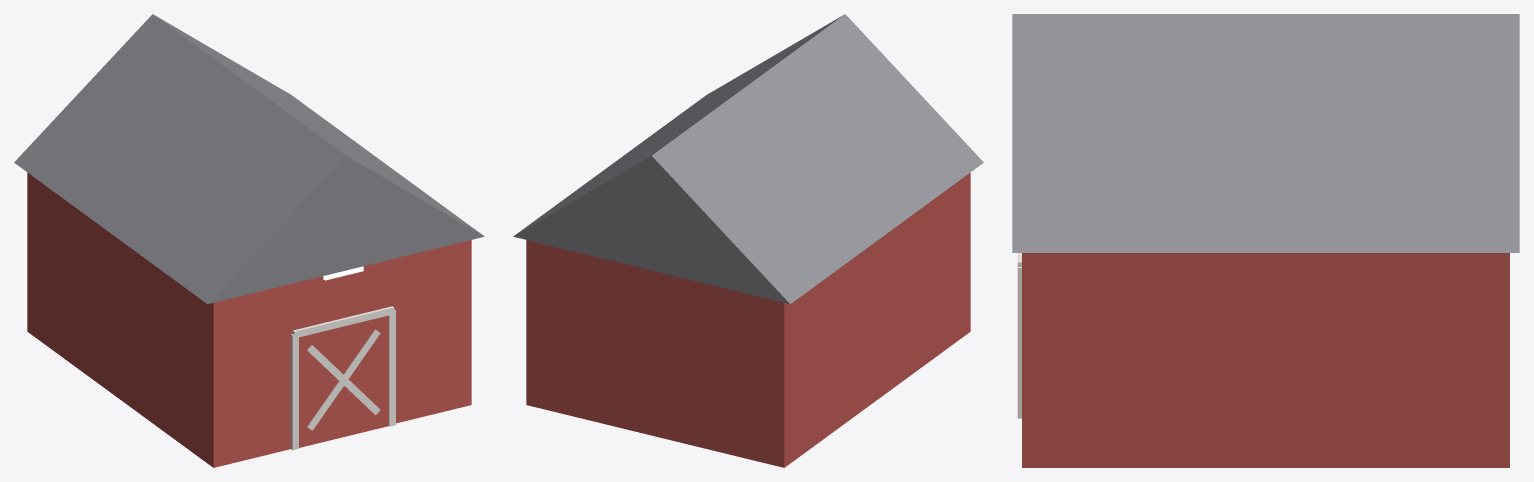
Rendered from barn.glb.
3 renders of one model, left to right at view 1: azimuth 30°, elevation 25°; view 2: azimuth 150°, elevation 25°; view 3: azimuth 270°, elevation 25°, orthographic. The views are drawn at different scales.
Visible parts, largest first — view 1: barn; view 2: barn; view 3: barn.
Part boxes in pixels (left/top/right/bottom): barn: left=14, top=14, right=484, bottom=467; barn: left=513, top=14, right=983, bottom=467; barn: left=1012, top=14, right=1519, bottom=467.
Size of the model in its own units: 8.6 by 8.4 by 10.4.
